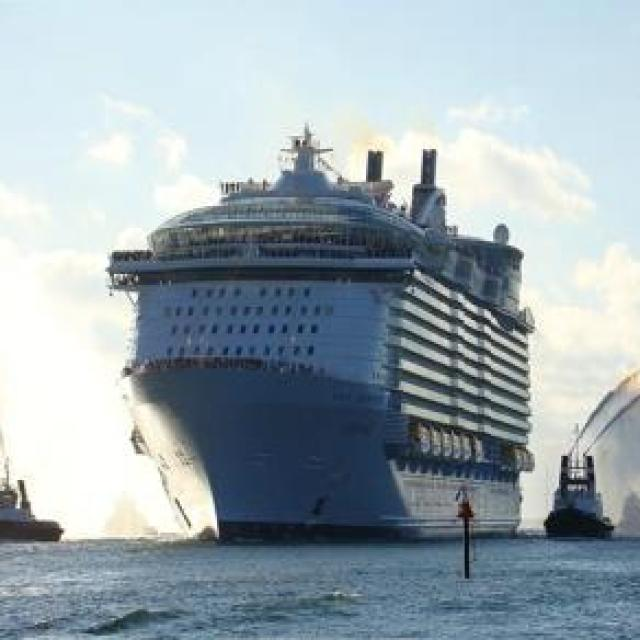passenger ship: (140, 121, 524, 537), (542, 440, 621, 533)
